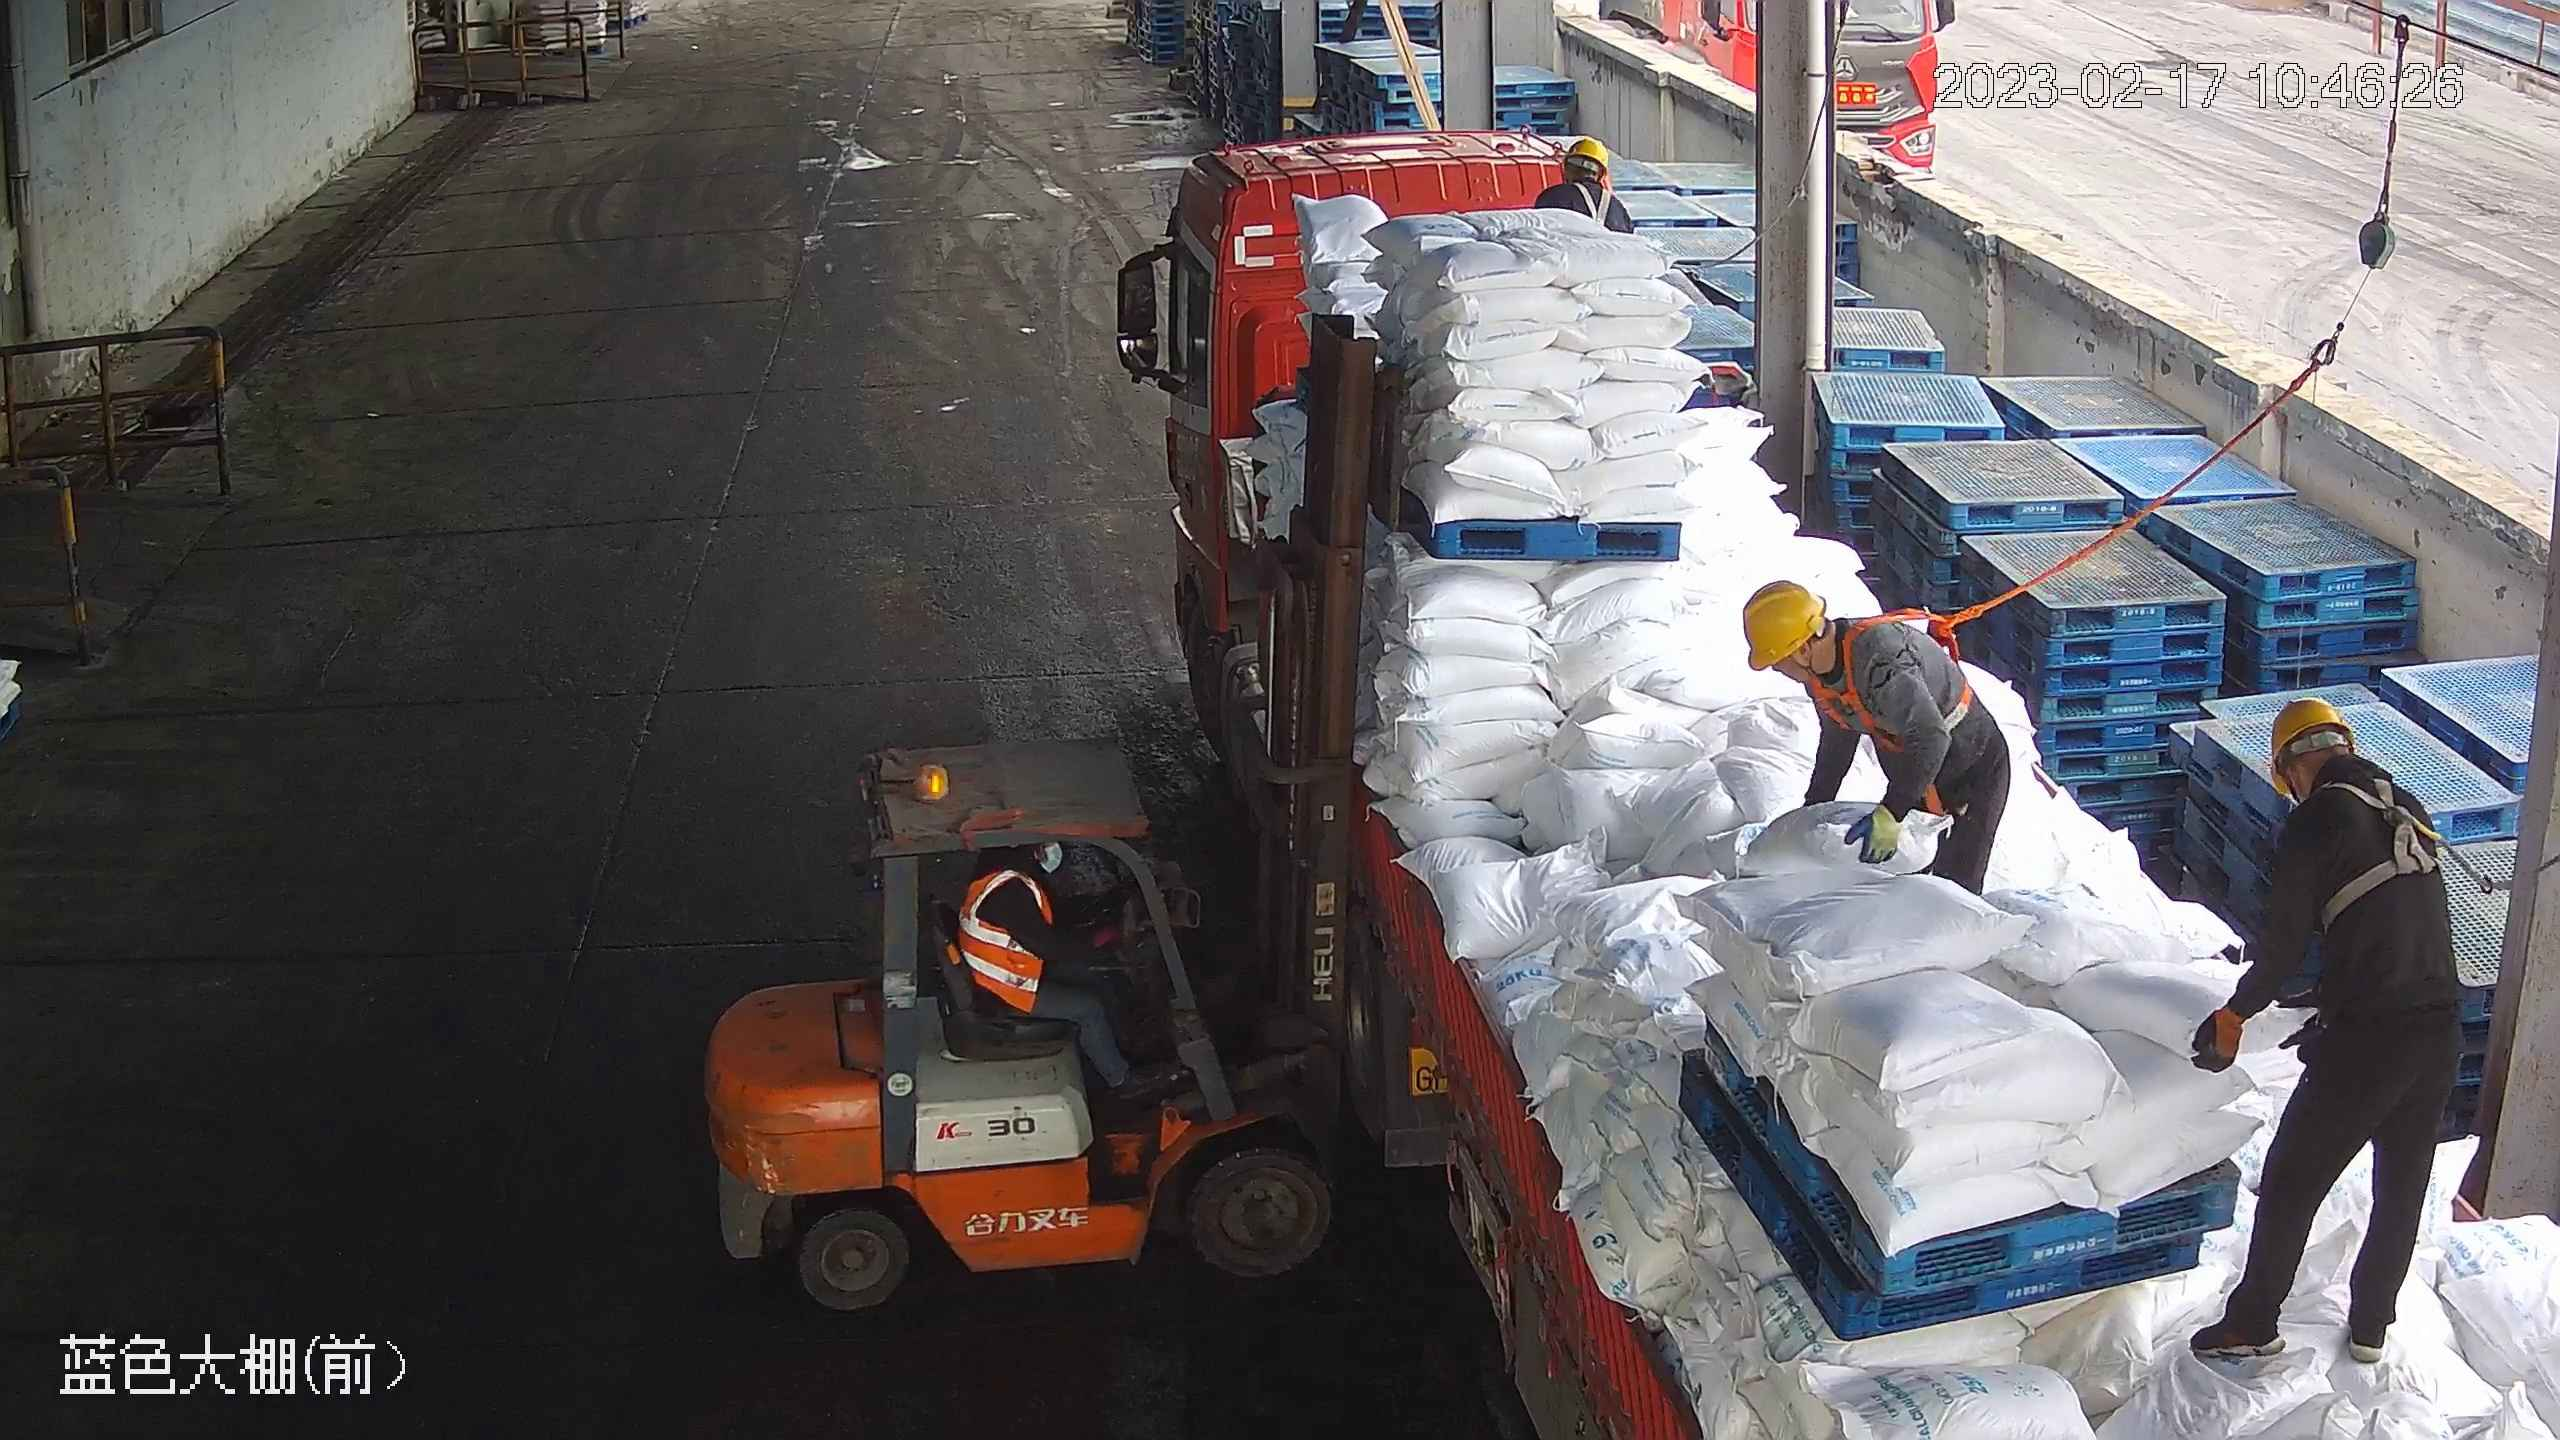belt: (1816, 606, 1975, 762), (2312, 773, 2452, 933), (1564, 183, 1626, 232)
head: (2252, 700, 2451, 906), (1742, 583, 1929, 737), (1535, 137, 1635, 232)
helmet: (2269, 699, 2355, 798), (1742, 582, 1826, 670), (1564, 136, 1613, 173)
people: (2191, 696, 2464, 1371), (1739, 579, 2010, 896), (951, 844, 1191, 1106)
truck: (1110, 123, 2560, 1440)
